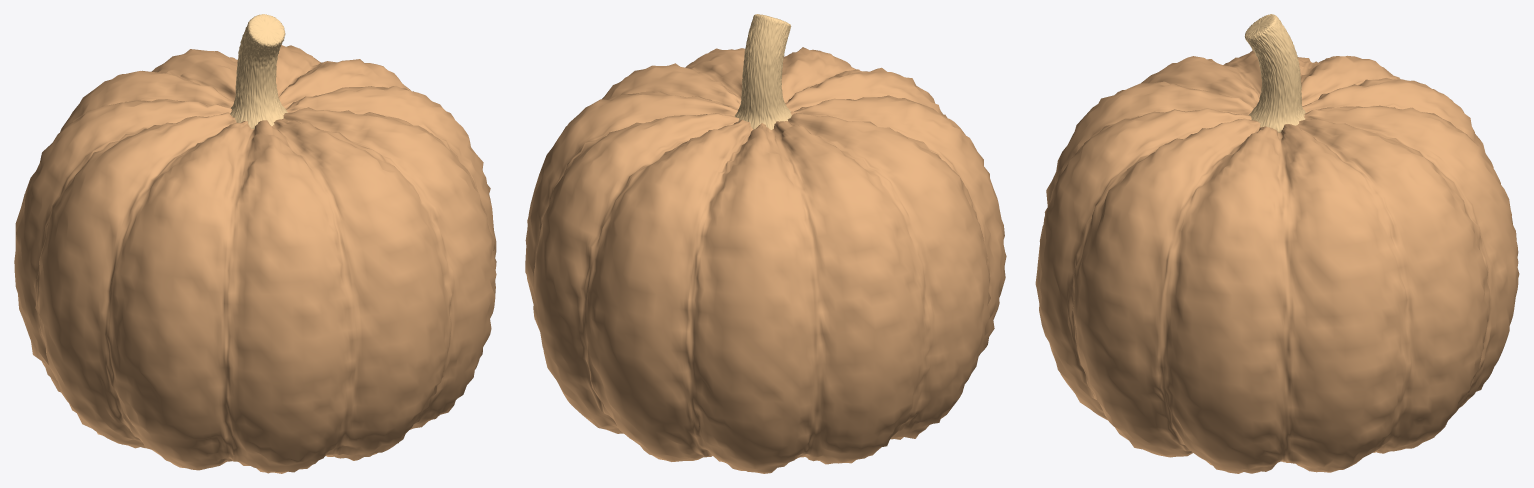
File: pumpkin4K.fbx
3 renders of one model, left to right at view 1: azimuth 30°, elevation 25°; view 2: azimuth 150°, elevation 25°; view 3: azimuth 270°, elevation 25°, orthographic.
Visible parts, largest first — view 1: Sphere.004, Cylinder.003; view 2: Sphere.004, Cylinder.003; view 3: Sphere.004, Cylinder.003.
Part boxes in pixels (box(x1,y1,x2,y2)): Sphere.004: box(14, 45, 496, 473); Cylinder.003: box(230, 14, 287, 128); Sphere.004: box(525, 47, 1006, 473); Cylinder.003: box(734, 14, 791, 129); Sphere.004: box(1035, 50, 1519, 473); Cylinder.003: box(1244, 14, 1305, 132).
Bounding box in the file's own units: 197 × 179 × 197.
